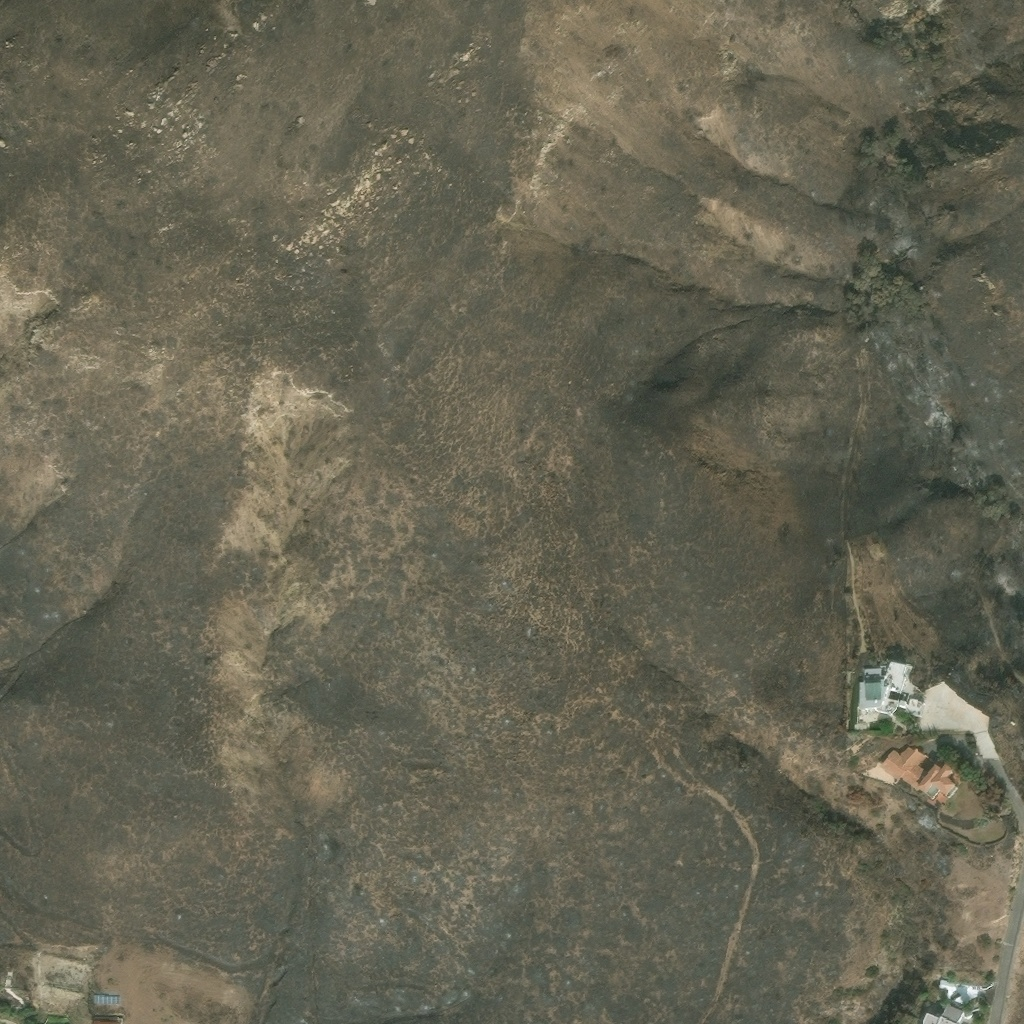0 no-damage: (879, 745, 958, 810), (852, 661, 924, 731), (922, 1004, 966, 1023), (92, 995, 118, 1005), (93, 1017, 121, 1023)
